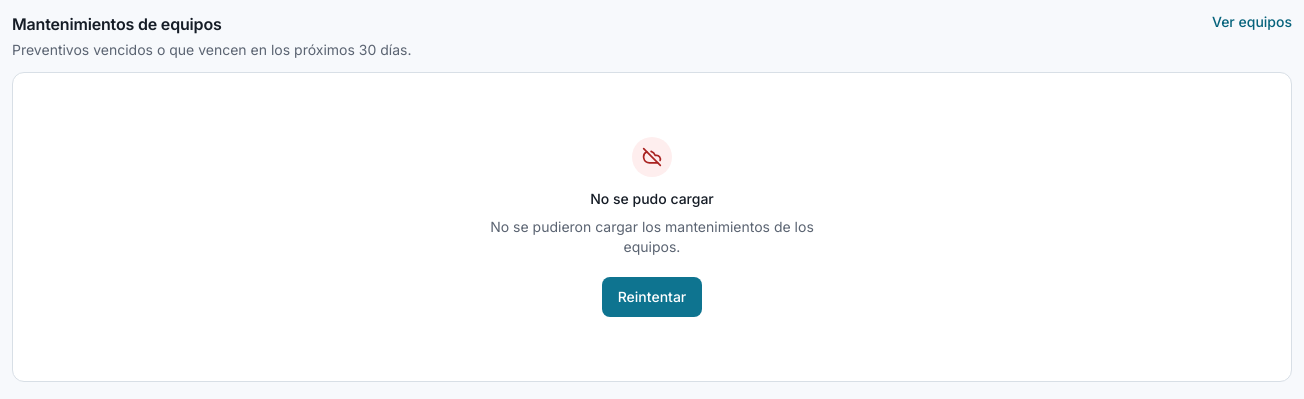
it: EquipmentMaintenanceSection (DX-543) › si la API falla, escalón 1 (SectionError) con Reintentar, y el reintento carga
What coordinates should you click on to do the following:
click the button "Reintentar"
I would click on:
 (652, 297)
Its box is [602,277,702,317].
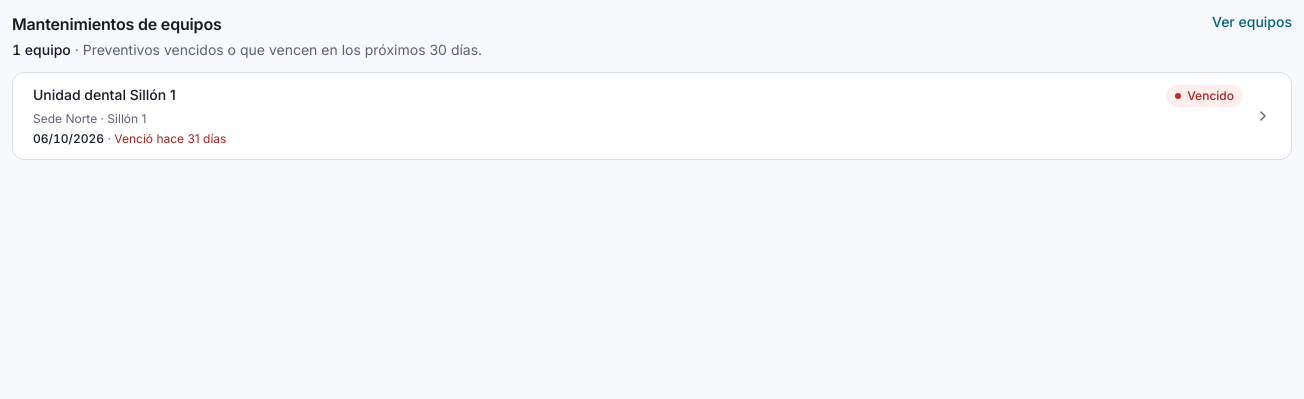
expect the link "Unidad dental Sillón 1" is shown: met, box [33,85,176,105]
expect the message is gone: met
